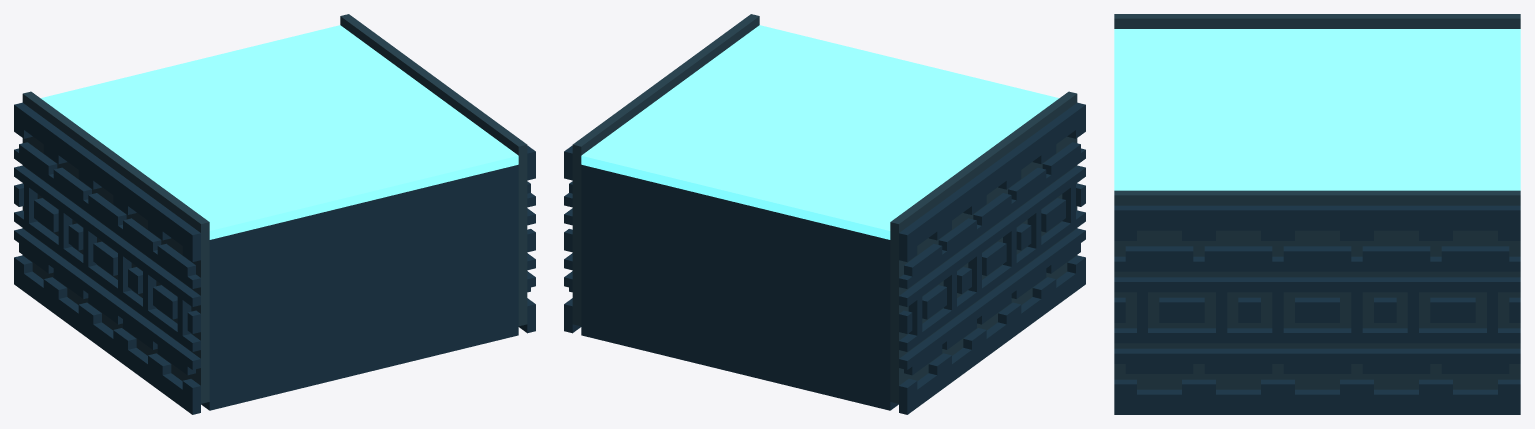
File: Block_Base_TwoSides.glb
3 views of the same model, side by side, from view 1: azimuth 30°, elevation 25°; view 2: azimuth 150°, elevation 25°; view 3: azimuth 270°, elevation 25° (orthographic). The views are drawn at different scales.
Visible parts, largest first — view 1: Block_Base_TwoSides; view 2: Block_Base_TwoSides; view 3: Block_Base_TwoSides.
Part boxes in pixels (left/top/right/bottom): Block_Base_TwoSides: left=14, top=14, right=535, bottom=414; Block_Base_TwoSides: left=564, top=14, right=1085, bottom=414; Block_Base_TwoSides: left=1114, top=14, right=1520, bottom=414.
Bounding box in the file's own units: 1 × 0.525 × 0.9.
